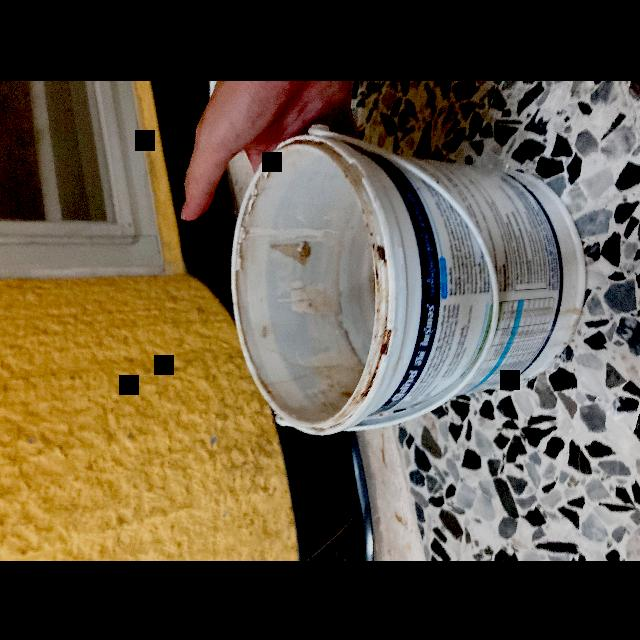paint_bucket: (232, 137, 582, 436)
